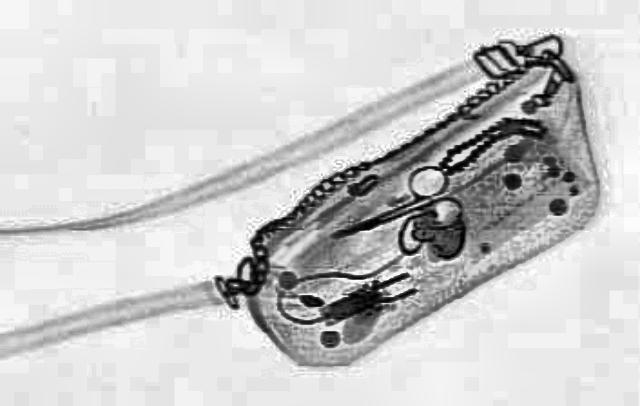Scissors: (308, 161, 486, 255)
